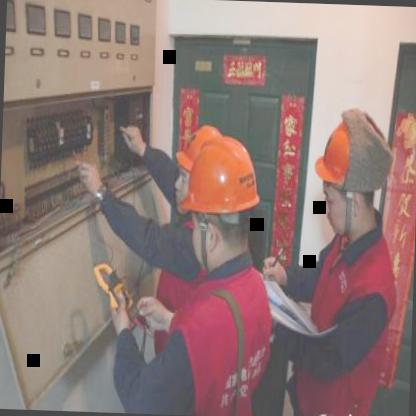helmet: (178, 129, 262, 271), (314, 113, 384, 235), (171, 120, 221, 217)
